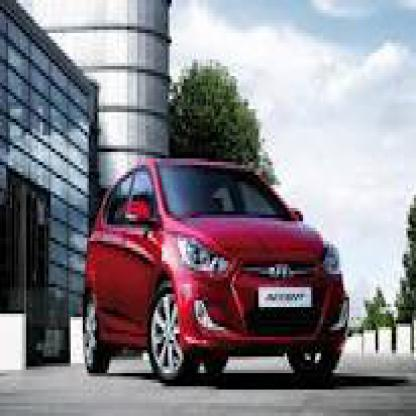Vehicle: (79, 155, 357, 390)
